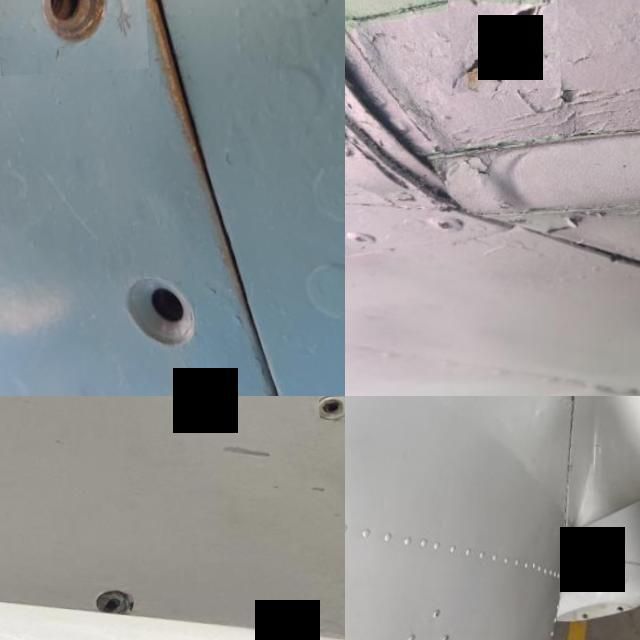Crack: (445, 0, 558, 94), (550, 491, 572, 574)
Missing_Fastener: (92, 243, 215, 378), (0, 0, 145, 78), (87, 588, 134, 615), (316, 398, 345, 424)
